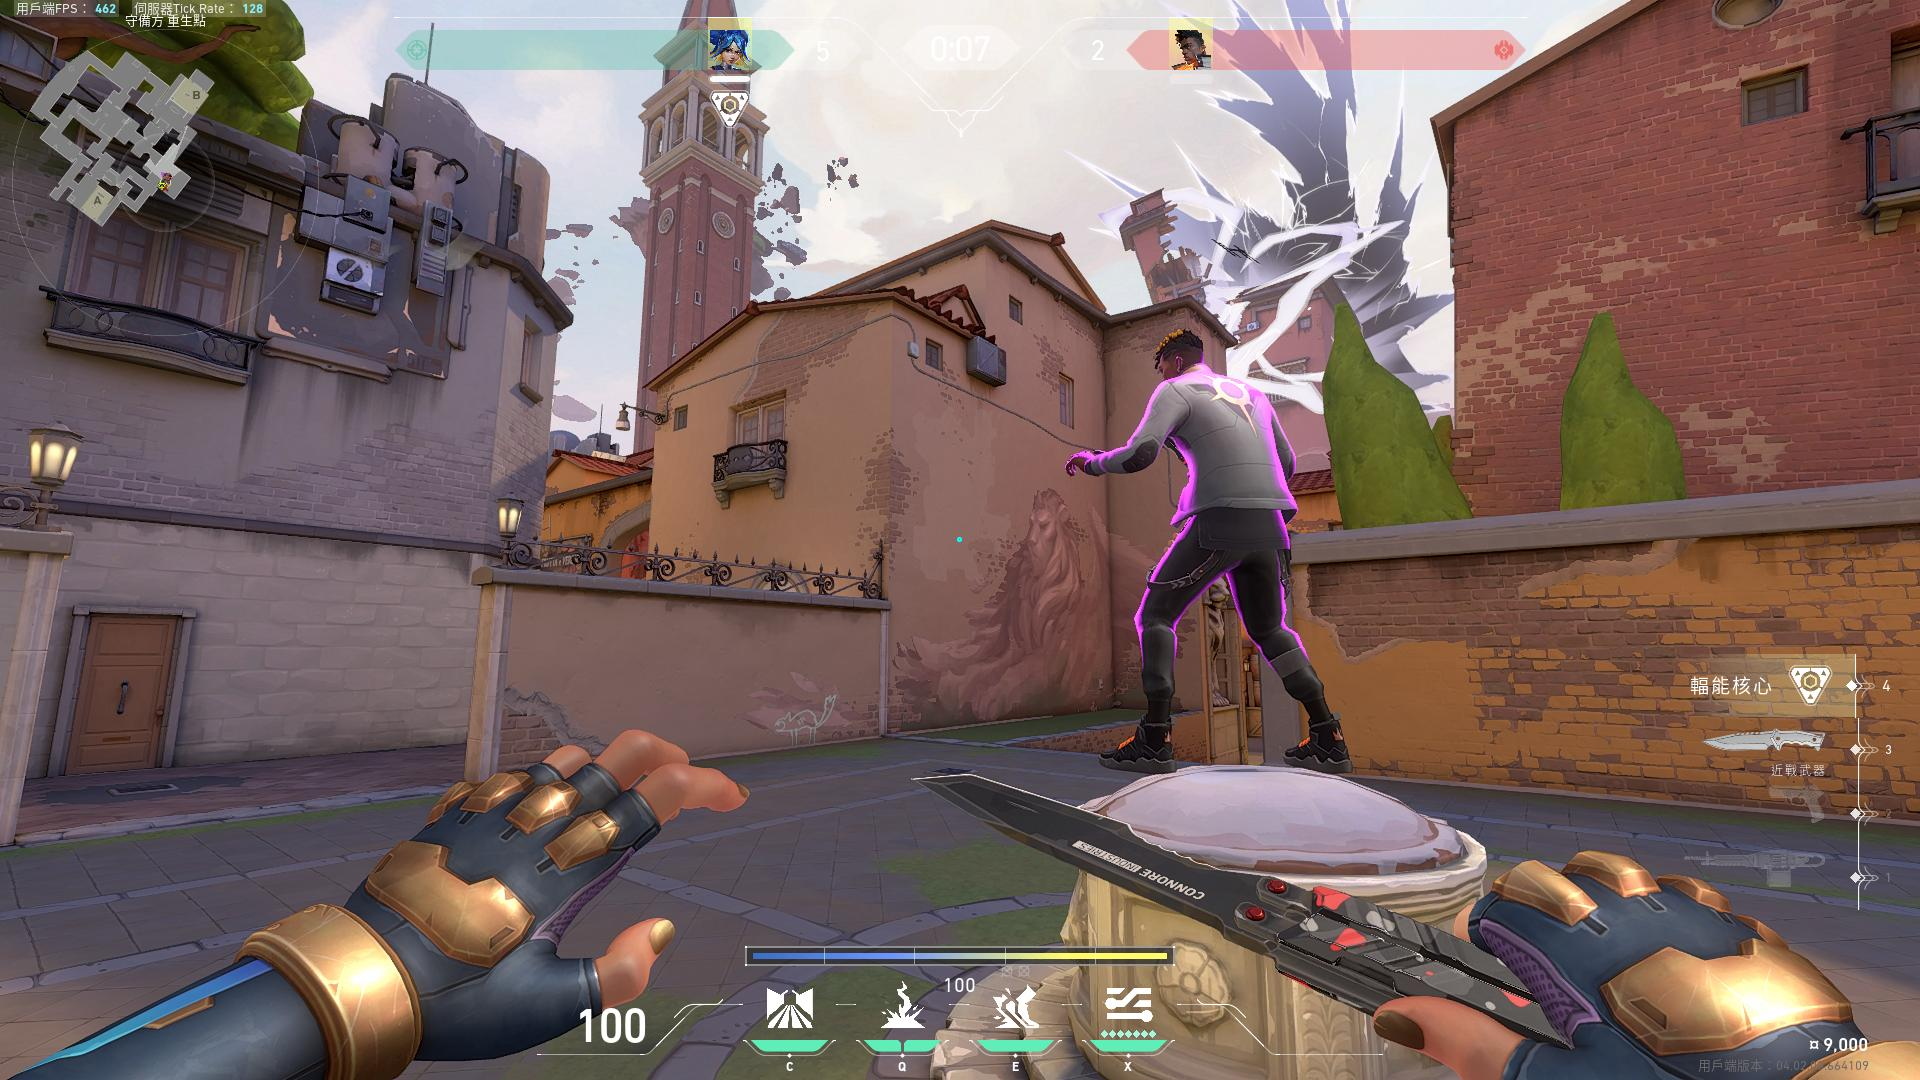enemyBody: (1188, 415, 1282, 516)
